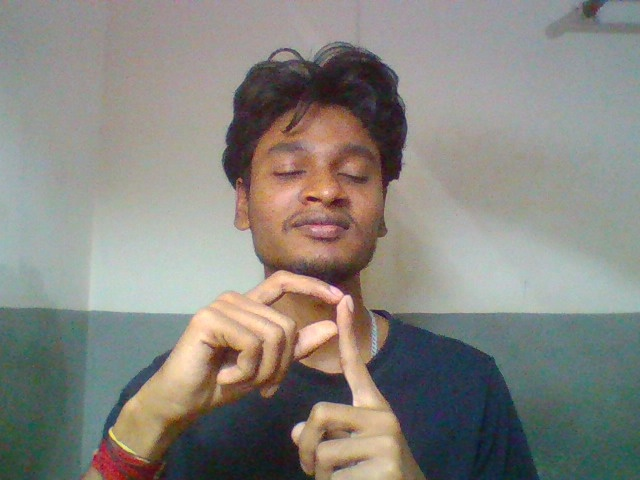P: (138, 264, 437, 480)
